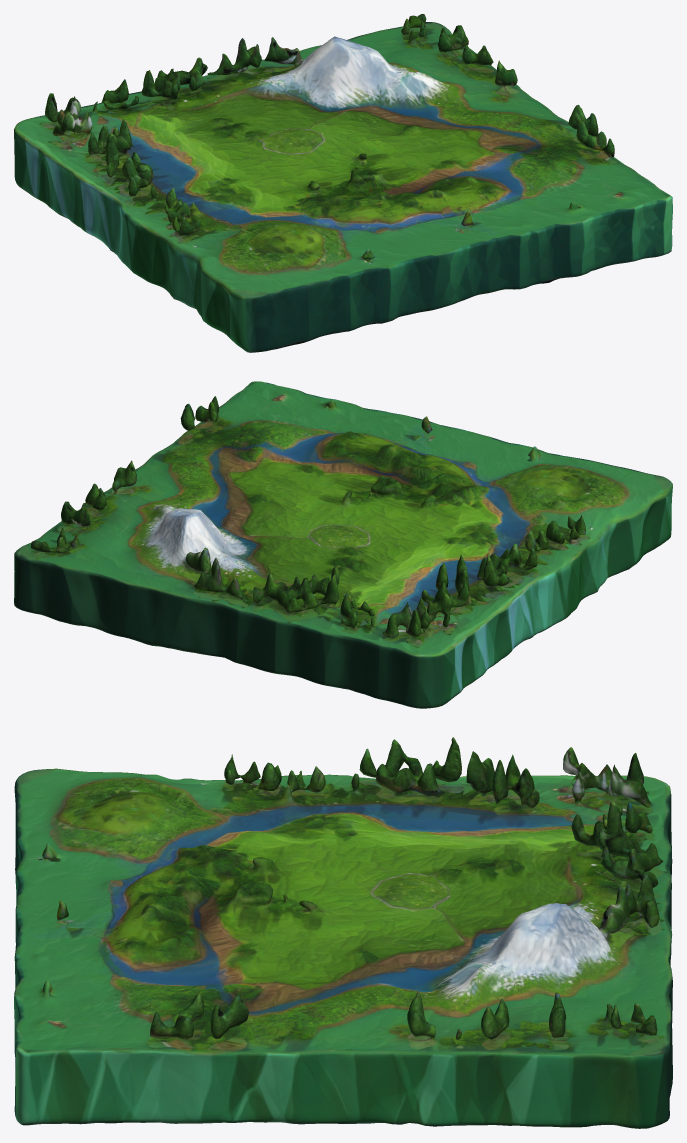
The model's file is land.glb.
3 renders of one model, top to bottom at view 1: azimuth 30°, elevation 25°; view 2: azimuth 150°, elevation 25°; view 3: azimuth 270°, elevation 25°, orthographic. The views are drawn at different scales.
Bounding box in the file's own units: 1.99 × 0.4596 × 1.94.
Materials: 1 (1 with a texture image).
